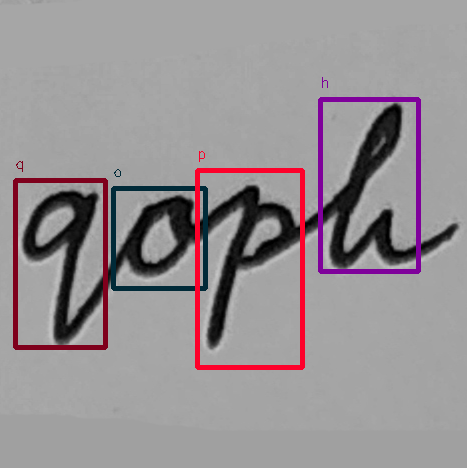h: (322, 99, 462, 276)
o: (118, 193, 201, 282)
p: (203, 181, 302, 354)
q: (14, 184, 106, 349)
